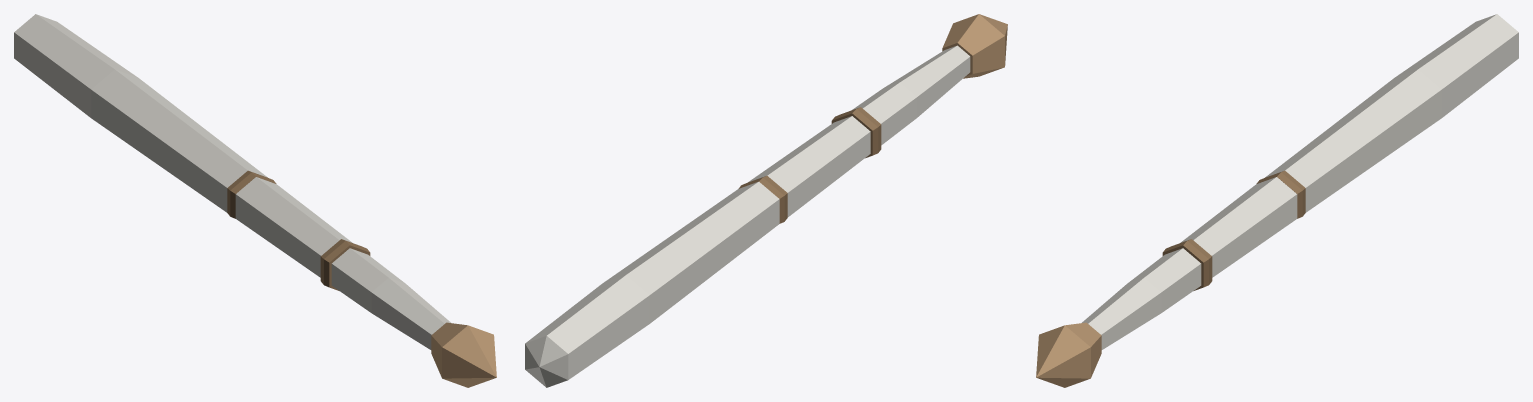
File: birchrod.glb
The picture shows the model from 3 angles, left to right: view 1: azimuth 30°, elevation 25°; view 2: azimuth 150°, elevation 25°; view 3: azimuth 330°, elevation 25°; orthographic projection.
Parts seen in each view (by area): view 1: birchrod; view 2: birchrod; view 3: birchrod.
Boxes of the visible parts, <box> form: birchrod: <box>14,14,496,387</box>; birchrod: <box>525,14,1007,387</box>; birchrod: <box>1036,14,1518,387</box>.
Bounding box in the file's own units: 0.0416 × 0.048 × 0.65.
